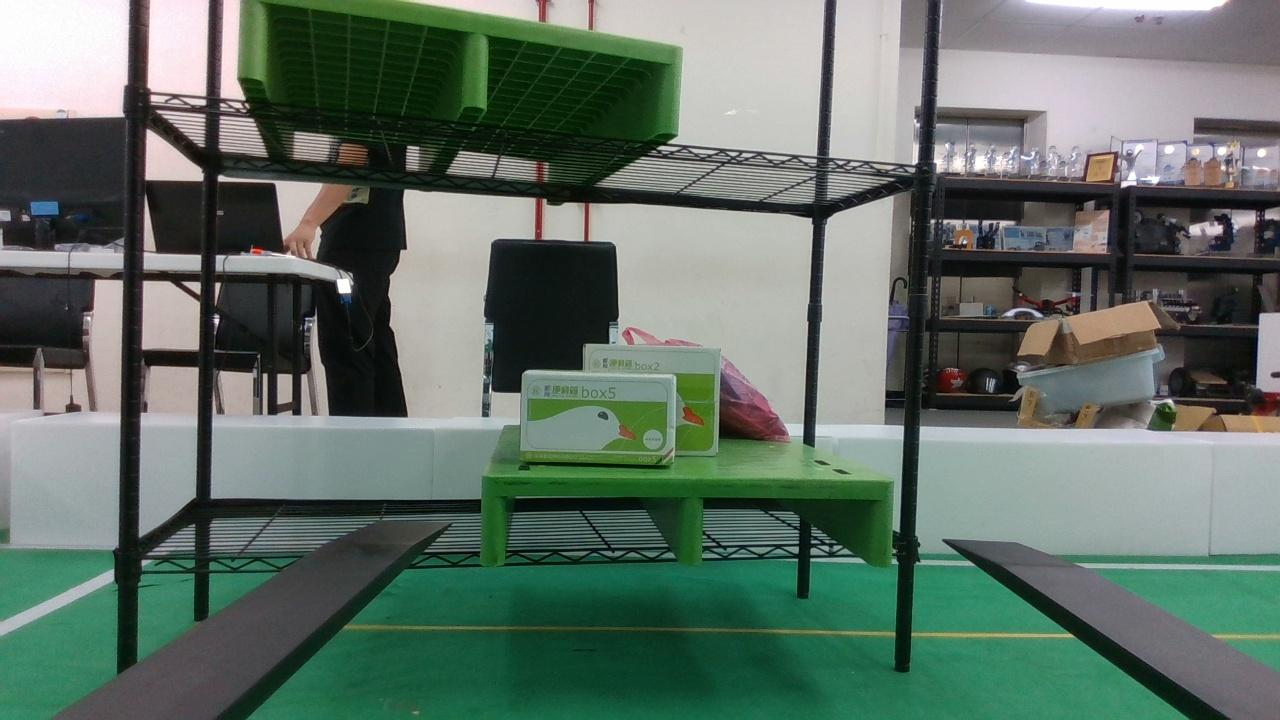Pallet: (235, 0, 682, 136), (479, 473, 894, 572)
